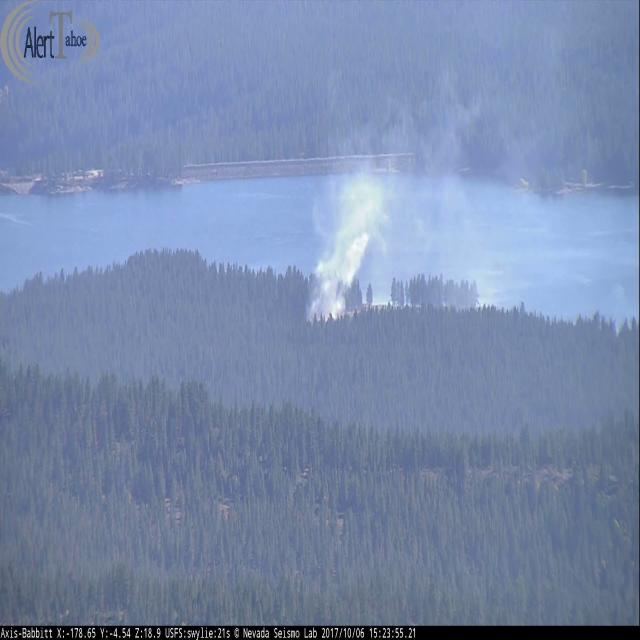smoke: (305, 30, 590, 322)
